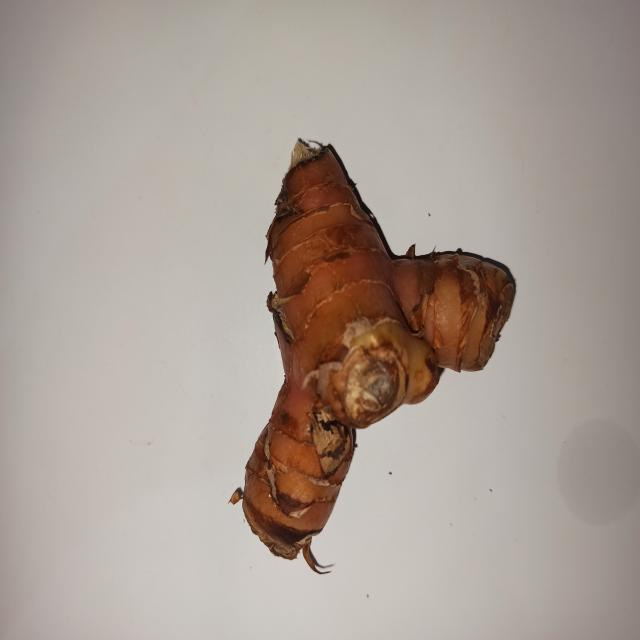ginger: (233, 140, 484, 492)
